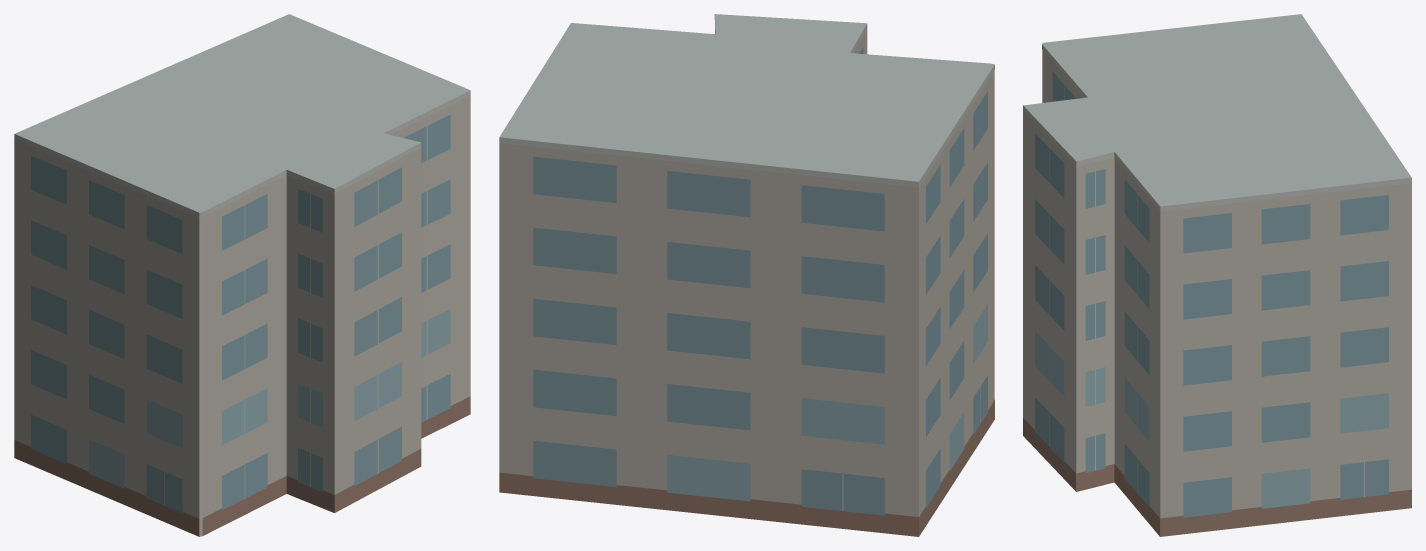
The model's file is survey-upis-32648448.glb.
3 renders of one model, left to right at view 1: azimuth 30°, elevation 25°; view 2: azimuth 150°, elevation 25°; view 3: azimuth 270°, elevation 25°, orthographic. The views are drawn at different scales.
Visible parts, largest first — view 1: survey-upis-32648448.tmp; view 2: survey-upis-32648448.tmp; view 3: survey-upis-32648448.tmp.
Boxes of the visible parts, x1,y1,x2,y2 form: survey-upis-32648448.tmp: (14, 14, 470, 536); survey-upis-32648448.tmp: (499, 14, 994, 536); survey-upis-32648448.tmp: (1023, 14, 1411, 536).
Bounding box in the file's own units: 19.06 × 15.25 × 16.27.
